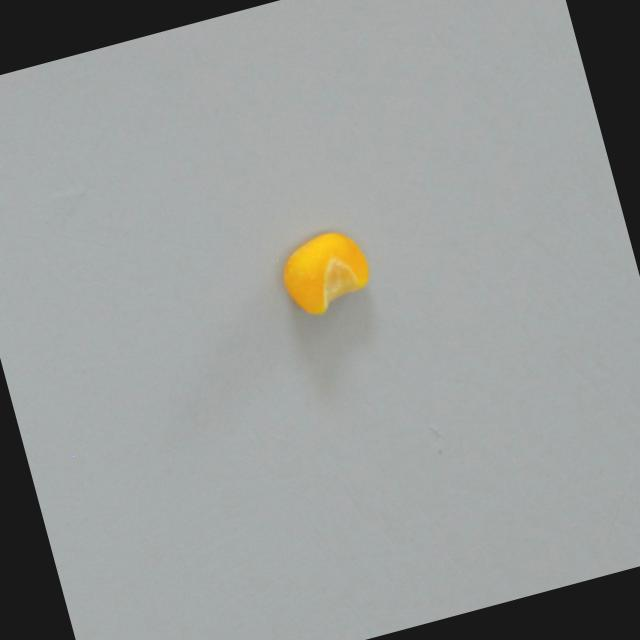no_canjicado: (272, 225, 378, 323)
